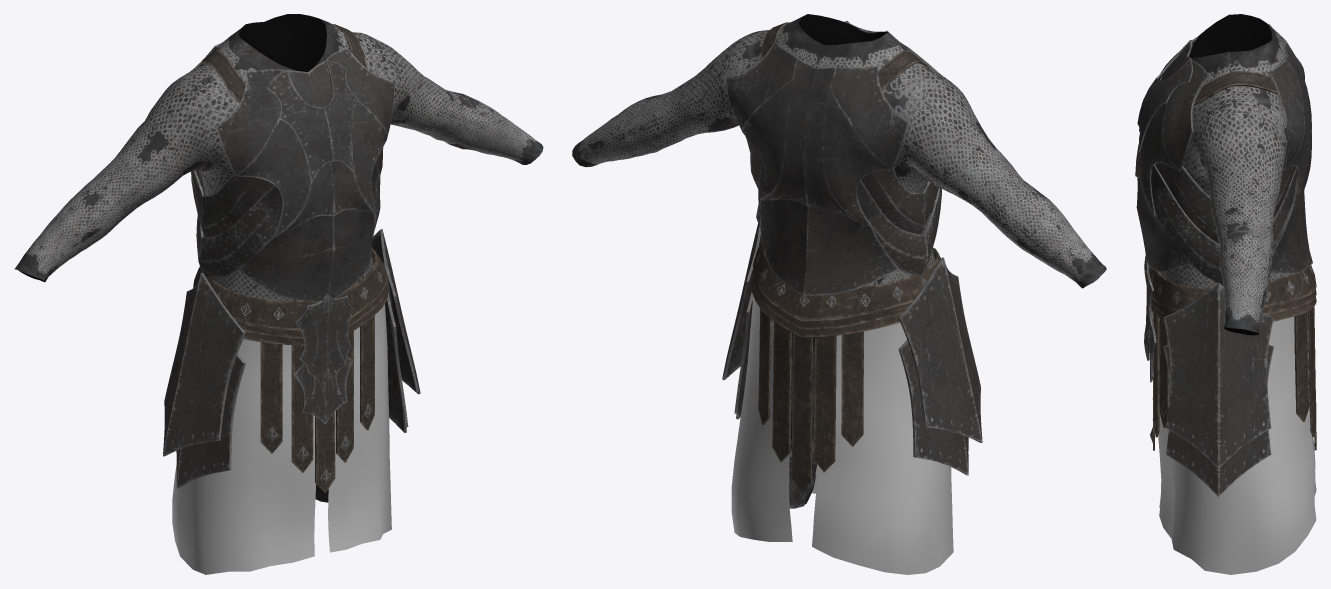
Rendered from sk_uruk_mordor_chainmail_elite_c2.fbx.
The picture shows the model from 3 angles, left to right: view 1: azimuth 30°, elevation 25°; view 2: azimuth 150°, elevation 25°; view 3: azimuth 270°, elevation 25°; orthographic projection. The views are drawn at different scales.
Parts seen in each view (by area): view 1: sk_uruk_mordor_chainmail_elite_c2.4, sk_uruk_mordor_chainmail_elite_c2.0, sk_uruk_mordor_chainmail_elite_c2.2, sk_uruk_mordor_chainmail_elite_c2.1, sk_uruk_mordor_chainmail_elite_c2.3; view 2: sk_uruk_mordor_chainmail_elite_c2.4, sk_uruk_mordor_chainmail_elite_c2.0, sk_uruk_mordor_chainmail_elite_c2.2, sk_uruk_mordor_chainmail_elite_c2.1; view 3: sk_uruk_mordor_chainmail_elite_c2.4, sk_uruk_mordor_chainmail_elite_c2.0, sk_uruk_mordor_chainmail_elite_c2.2, sk_uruk_mordor_chainmail_elite_c2.1, sk_uruk_mordor_chainmail_elite_c2.3.
Boxes of the visible parts, bbox=[...] form: sk_uruk_mordor_chainmail_elite_c2.4: bbox=[163, 42, 420, 488]; sk_uruk_mordor_chainmail_elite_c2.0: bbox=[14, 14, 543, 502]; sk_uruk_mordor_chainmail_elite_c2.2: bbox=[172, 304, 391, 574]; sk_uruk_mordor_chainmail_elite_c2.1: bbox=[193, 24, 388, 492]; sk_uruk_mordor_chainmail_elite_c2.3: bbox=[293, 293, 353, 424]; sk_uruk_mordor_chainmail_elite_c2.4: bbox=[722, 21, 982, 475]; sk_uruk_mordor_chainmail_elite_c2.0: bbox=[572, 14, 1106, 508]; sk_uruk_mordor_chainmail_elite_c2.2: bbox=[731, 294, 953, 574]; sk_uruk_mordor_chainmail_elite_c2.1: bbox=[750, 22, 940, 492]; sk_uruk_mordor_chainmail_elite_c2.4: bbox=[1135, 24, 1312, 496]; sk_uruk_mordor_chainmail_elite_c2.0: bbox=[1159, 14, 1287, 335]; sk_uruk_mordor_chainmail_elite_c2.2: bbox=[1158, 316, 1316, 574]; sk_uruk_mordor_chainmail_elite_c2.1: bbox=[1149, 70, 1316, 450]; sk_uruk_mordor_chainmail_elite_c2.3: bbox=[1144, 256, 1156, 382].
Size of the model in its own units: 1.37 by 0.4267 by 1.29.
